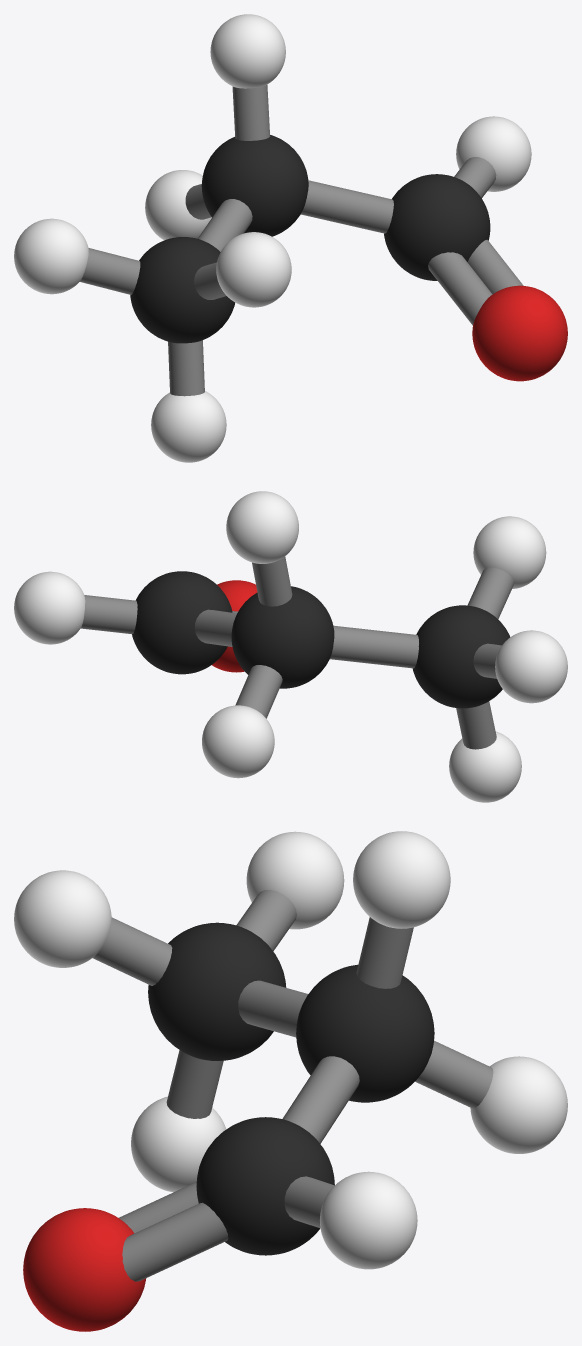
The model's file is propanal.glb.
3 views of the same model, one above another, from view 1: azimuth 30°, elevation 25°; view 2: azimuth 150°, elevation 25°; view 3: azimuth 270°, elevation 25° (orthographic). The views are drawn at different scales.
Parts seen in each view (by area): view 1: C_2, C_1, C_0, O_3, H_5, H_7, H_6, H_4, H_9, B1, H_8, B2a (+8 smaller); view 2: C_1, C_2, C_0, H_6, H_7, H_8, H_9, H_5, H_4, B0, B8, B7 (+6 smaller); view 3: C_1, C_0, C_2, O_3, H_7, H_9, H_5, H_8, H_6, H_4, B2b, B1 (+8 smaller).
Part boxes in pixels (x1,y1,x2,y2): C_2: (384,174,490,280); C_1: (201,135,308,236); C_0: (130,237,234,343); O_3: (472,285,567,381); H_5: (216,232,291,307); H_7: (210,14,285,88); H_6: (14,218,88,294); H_4: (151,391,226,462); H_9: (456,116,531,191); B1: (300,180,393,233); H_8: (145,170,211,240); B2a: (428,252,492,325); C_1: (231,586,334,688); C_2: (132,571,232,674); C_0: (412,605,509,708); H_6: (495,630,567,703); H_7: (226,491,298,563); H_8: (202,705,274,778); H_9: (14,571,85,644); H_5: (473,516,546,588); H_4: (449,731,521,802); B0: (330,625,418,668); B8: (81,595,137,634); B7: (235,665,282,718); C_1: (296,964,434,1102); C_0: (148,922,286,1060); C_2: (196,1117,334,1255); O_3: (23,1208,146,1331); H_7: (353,831,450,928); H_9: (319,1171,417,1269); H_5: (14,870,111,967); H_8: (470,1056,567,1153); H_6: (246,831,344,929); H_4: (131,1096,226,1192); B2b: (122,1202,228,1281); B1: (282,1056,359,1143).
Bounding box in the file's own units: 4.91 × 3.01 × 3.4.
